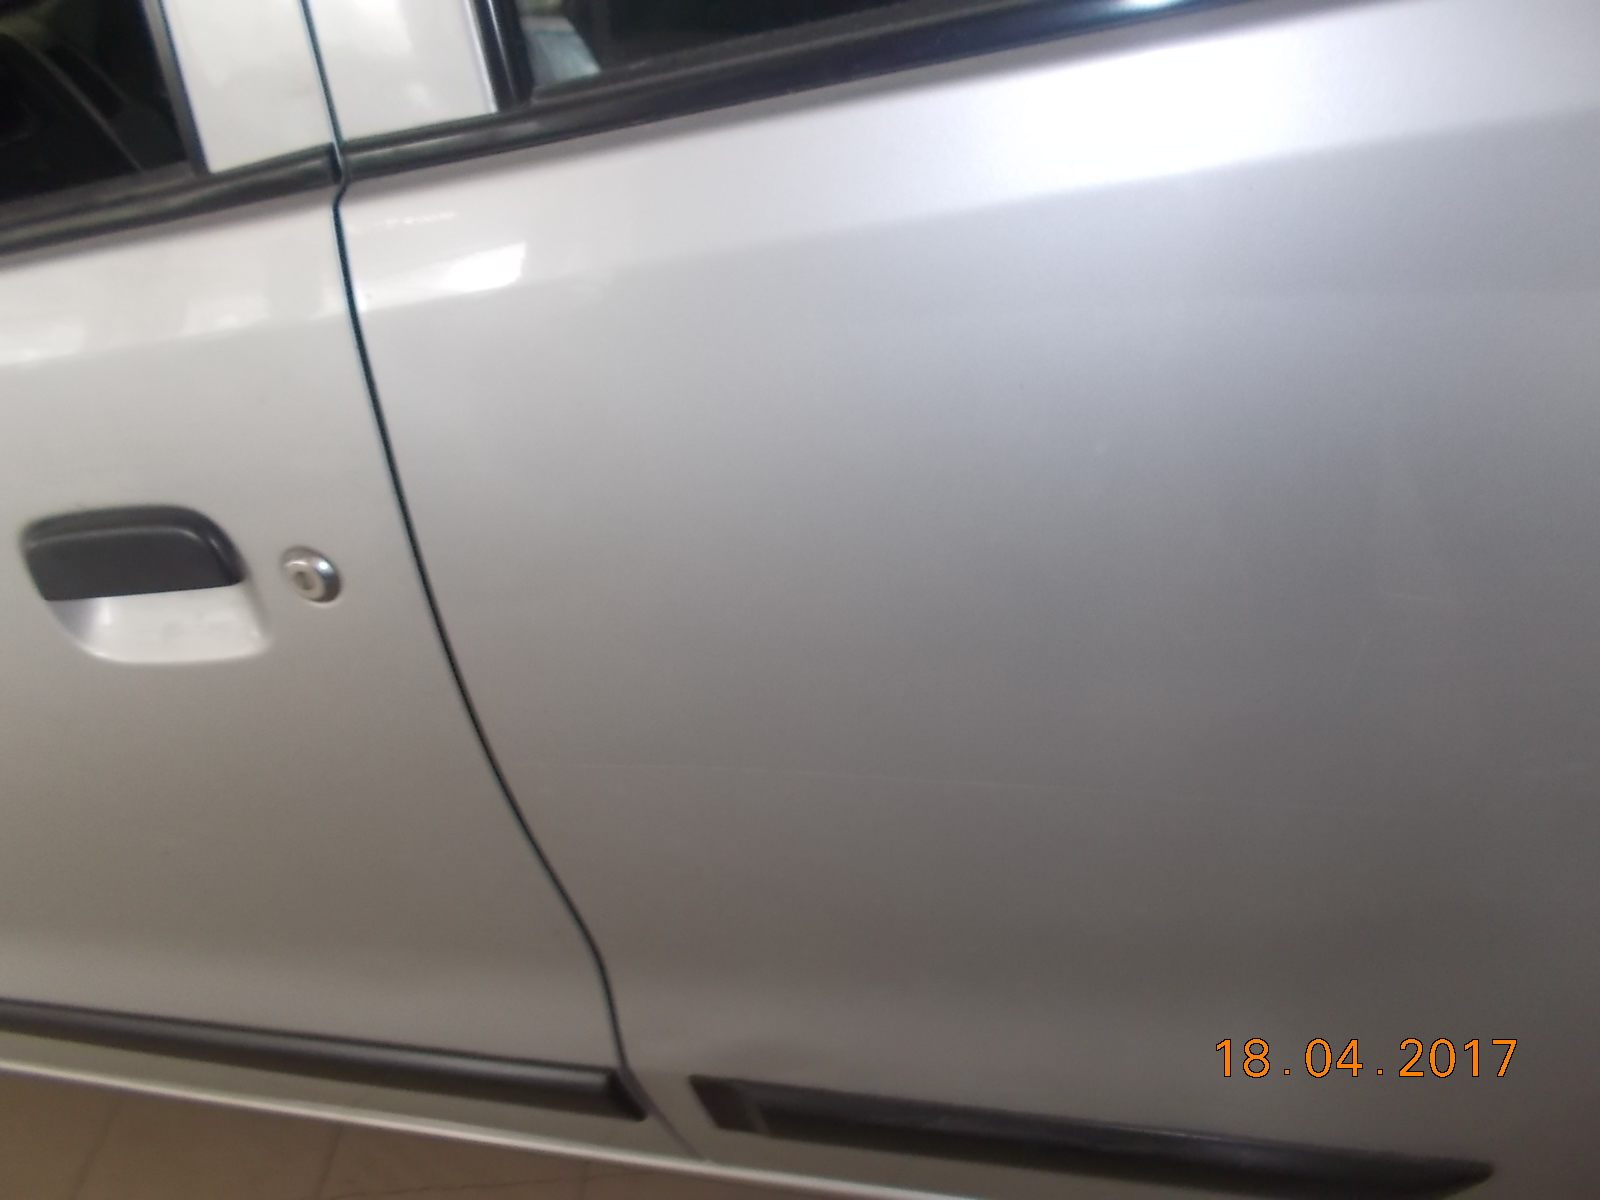Scratch_or_spot: (697, 793, 995, 966)
